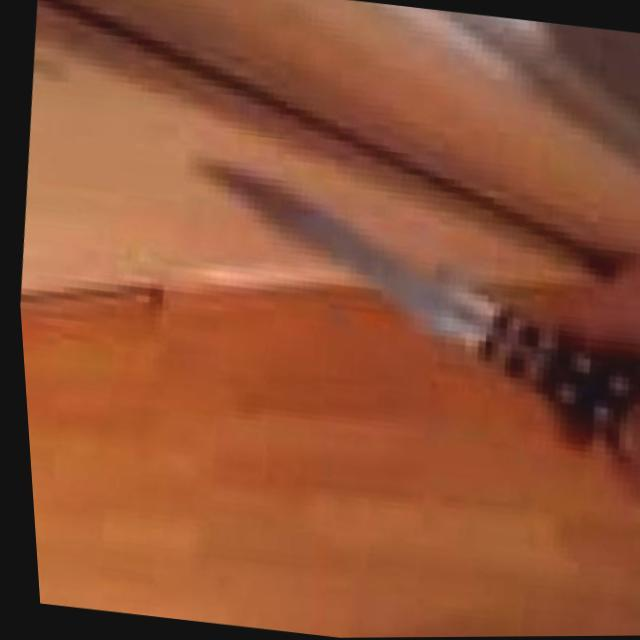knife: (175, 164, 640, 439)
